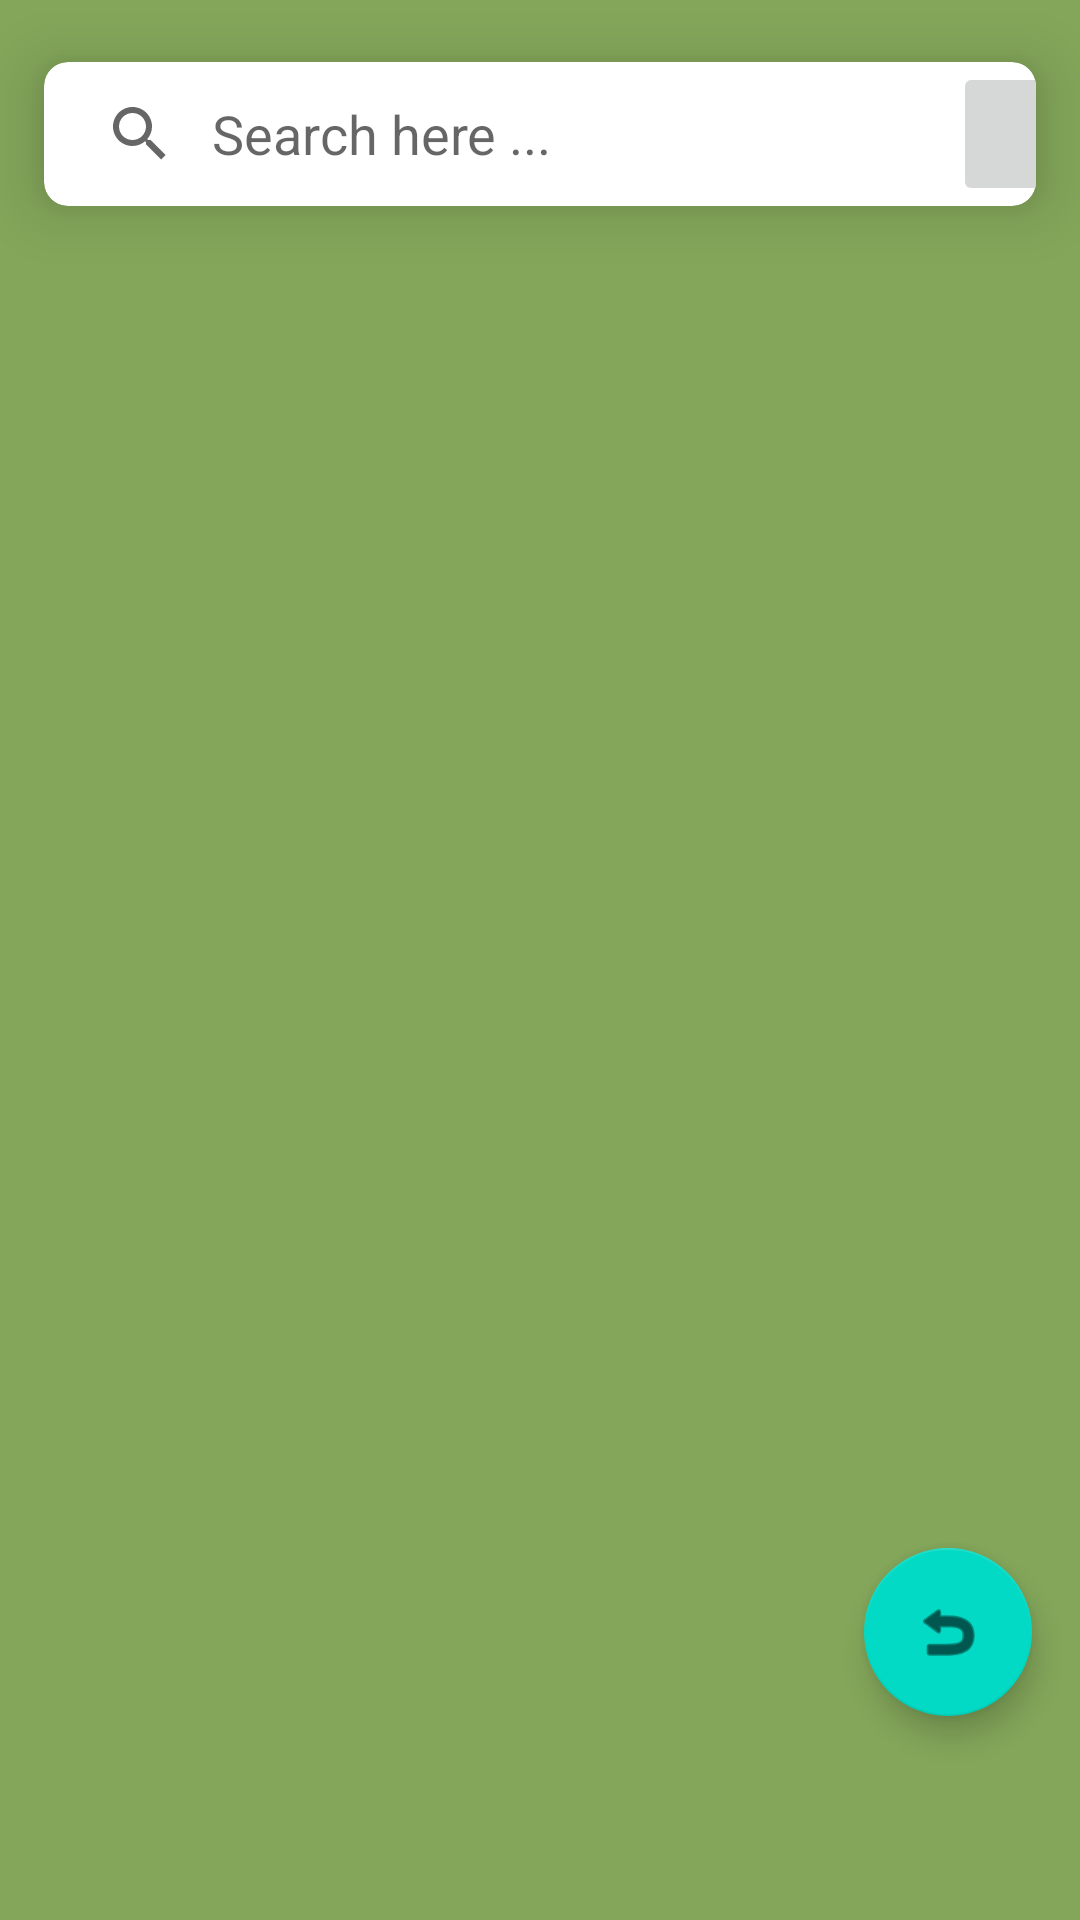

Screen size 1080px x 1920px. Icon name, then its center in pixels as [x,y]:
revert: [948,1632]
